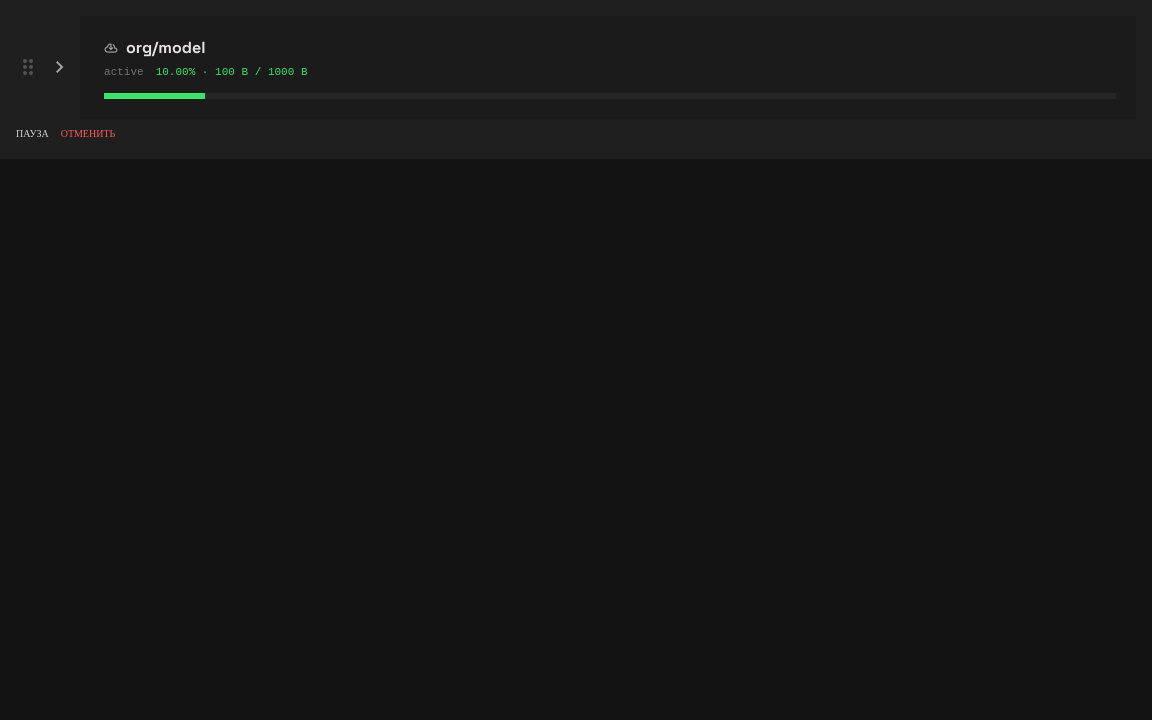
Test: DownloadList — клик открывает карточку модели › клик по строке загрузки открывает карточку модели (getModelDetail)
Click the button with test id "download-row-toggle" at (608, 67), box [80, 16, 1136, 118]
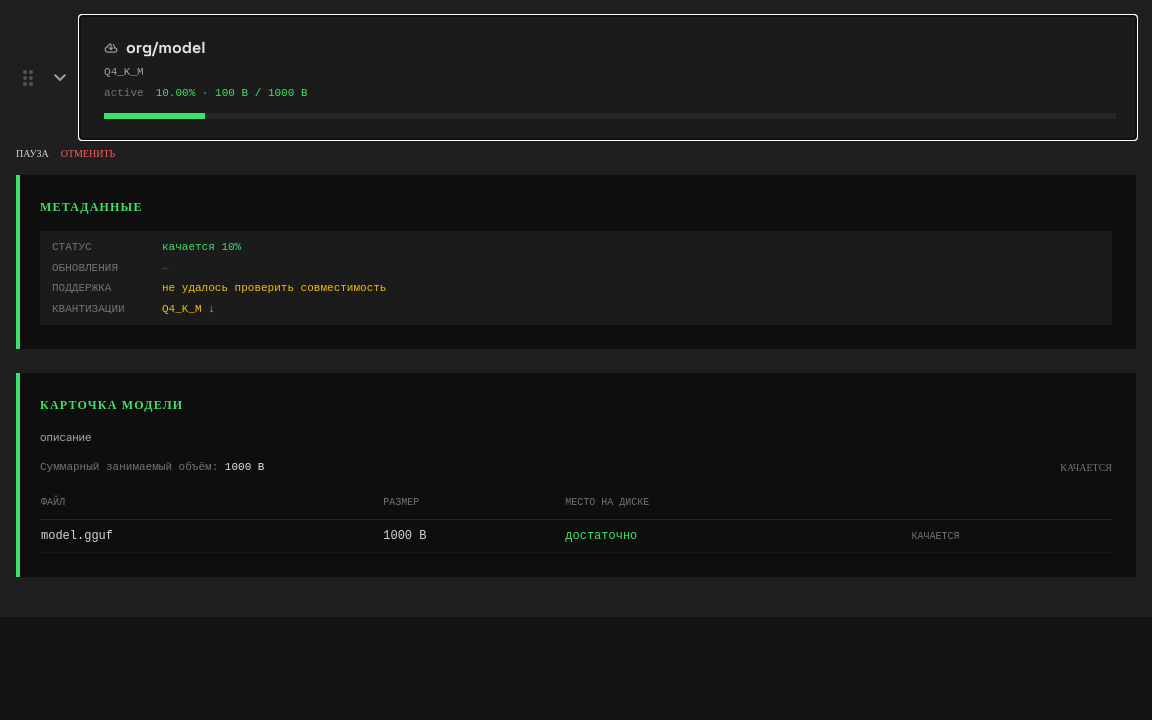
Check: the text "model.gguf" is shown, box [40, 520, 382, 553]
Check: the text with test id "launch-variants" reads "Q4_K_M", box [104, 66, 144, 78]
